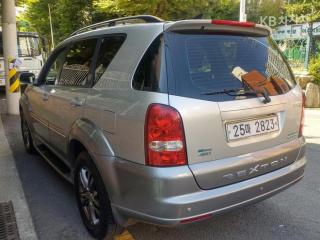2: (233, 124, 240, 137), (254, 120, 261, 133), (265, 120, 270, 131)
3: (270, 118, 275, 129)
5: (239, 123, 245, 136)
8: (260, 120, 265, 132)
plate: (216, 110, 284, 146)
마: (244, 122, 252, 134)
